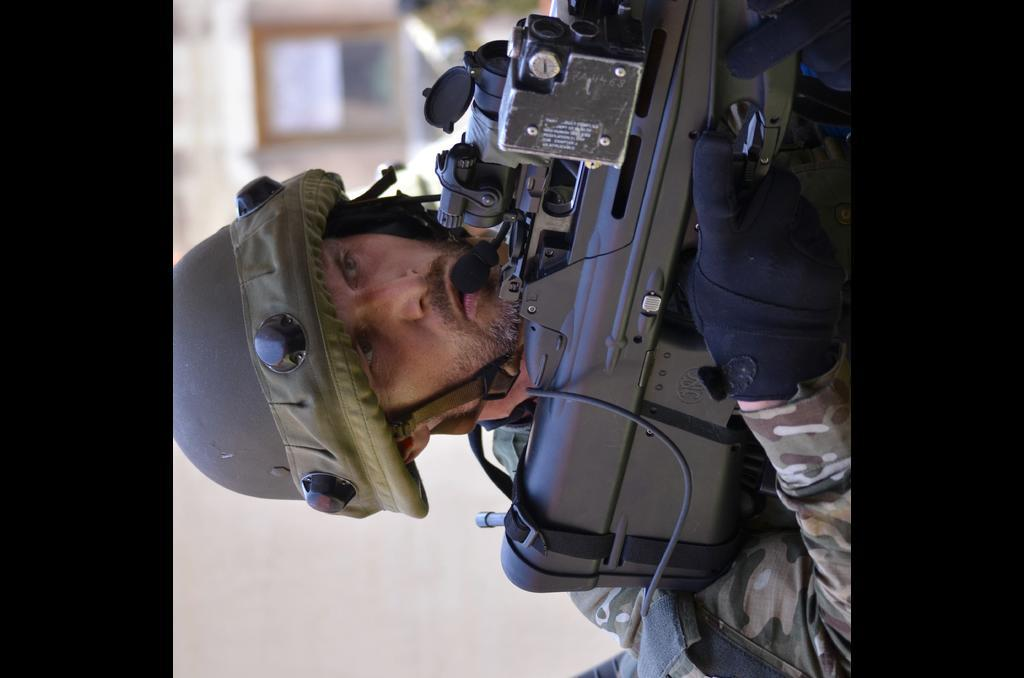gun: (425, 0, 803, 634)
